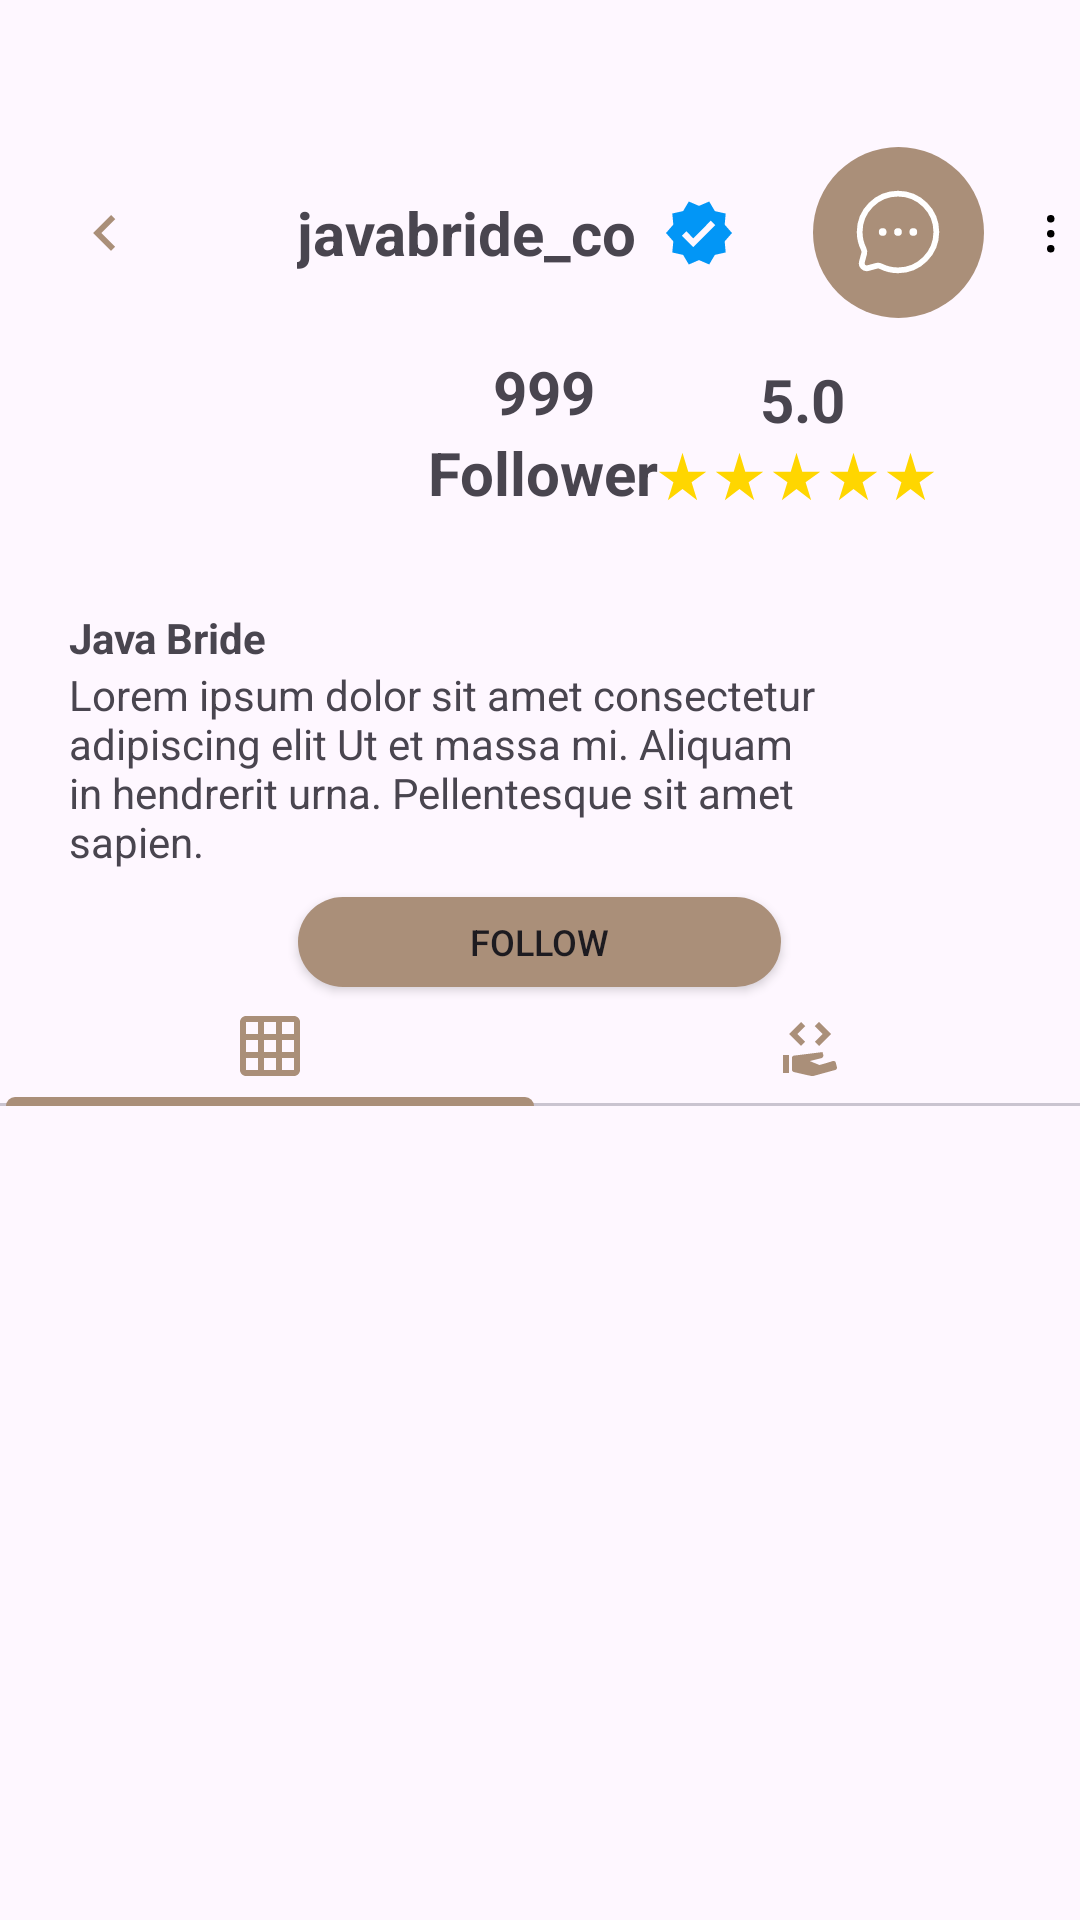

Locate icon controls on the screen. Image size 1080w x 1920h, boxes as bbox=[x1, y1, x2, y2].
keyboard arrow left: bbox=[93, 215, 115, 251]
pepicons pencil dots: bbox=[1047, 215, 1055, 253]
star rate: bbox=[659, 453, 706, 500], bbox=[716, 453, 763, 500], bbox=[773, 453, 820, 500], bbox=[830, 453, 877, 500], bbox=[887, 453, 934, 500]
verified: bbox=[666, 201, 732, 265]
